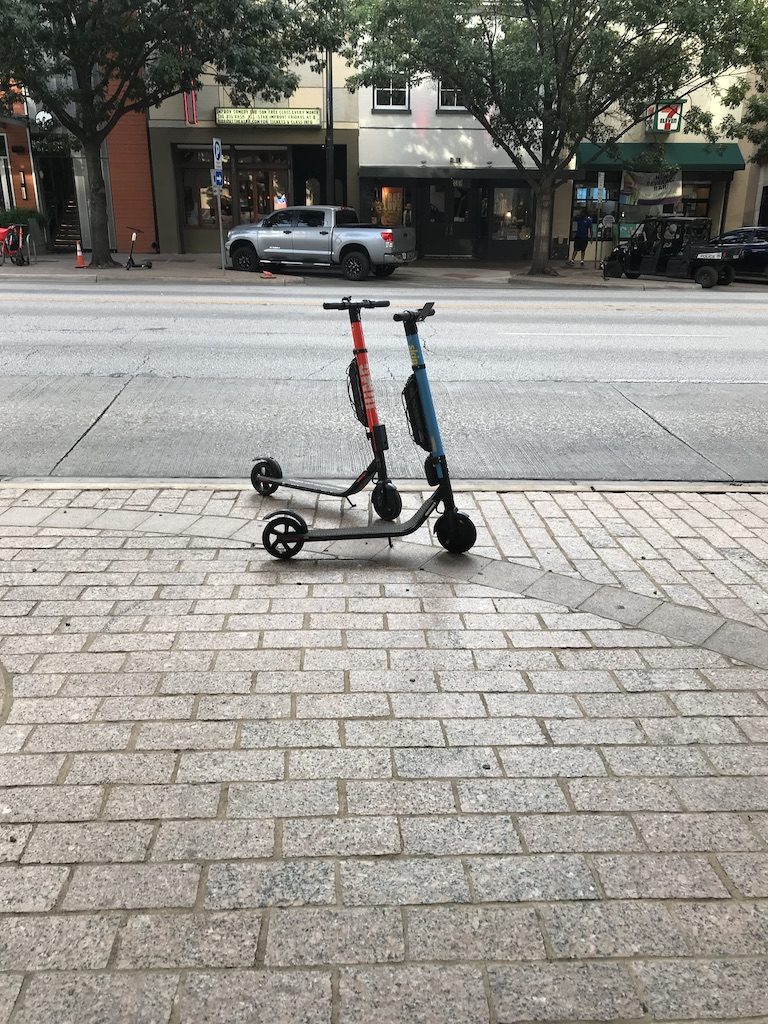scooter: (262, 303, 479, 559), (252, 301, 403, 522)
